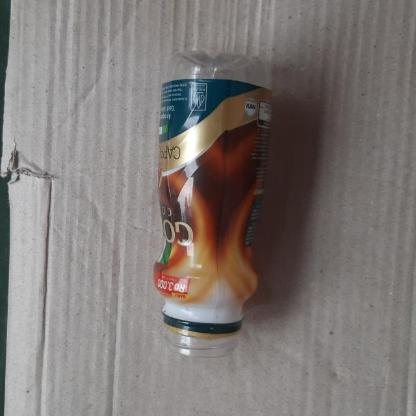Plastic Bottle: (152, 52, 272, 360)
